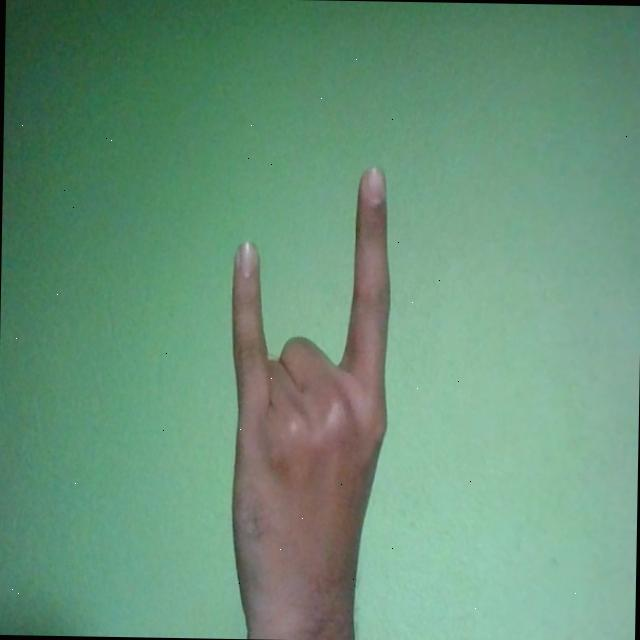open Plam: (226, 160, 391, 640)
